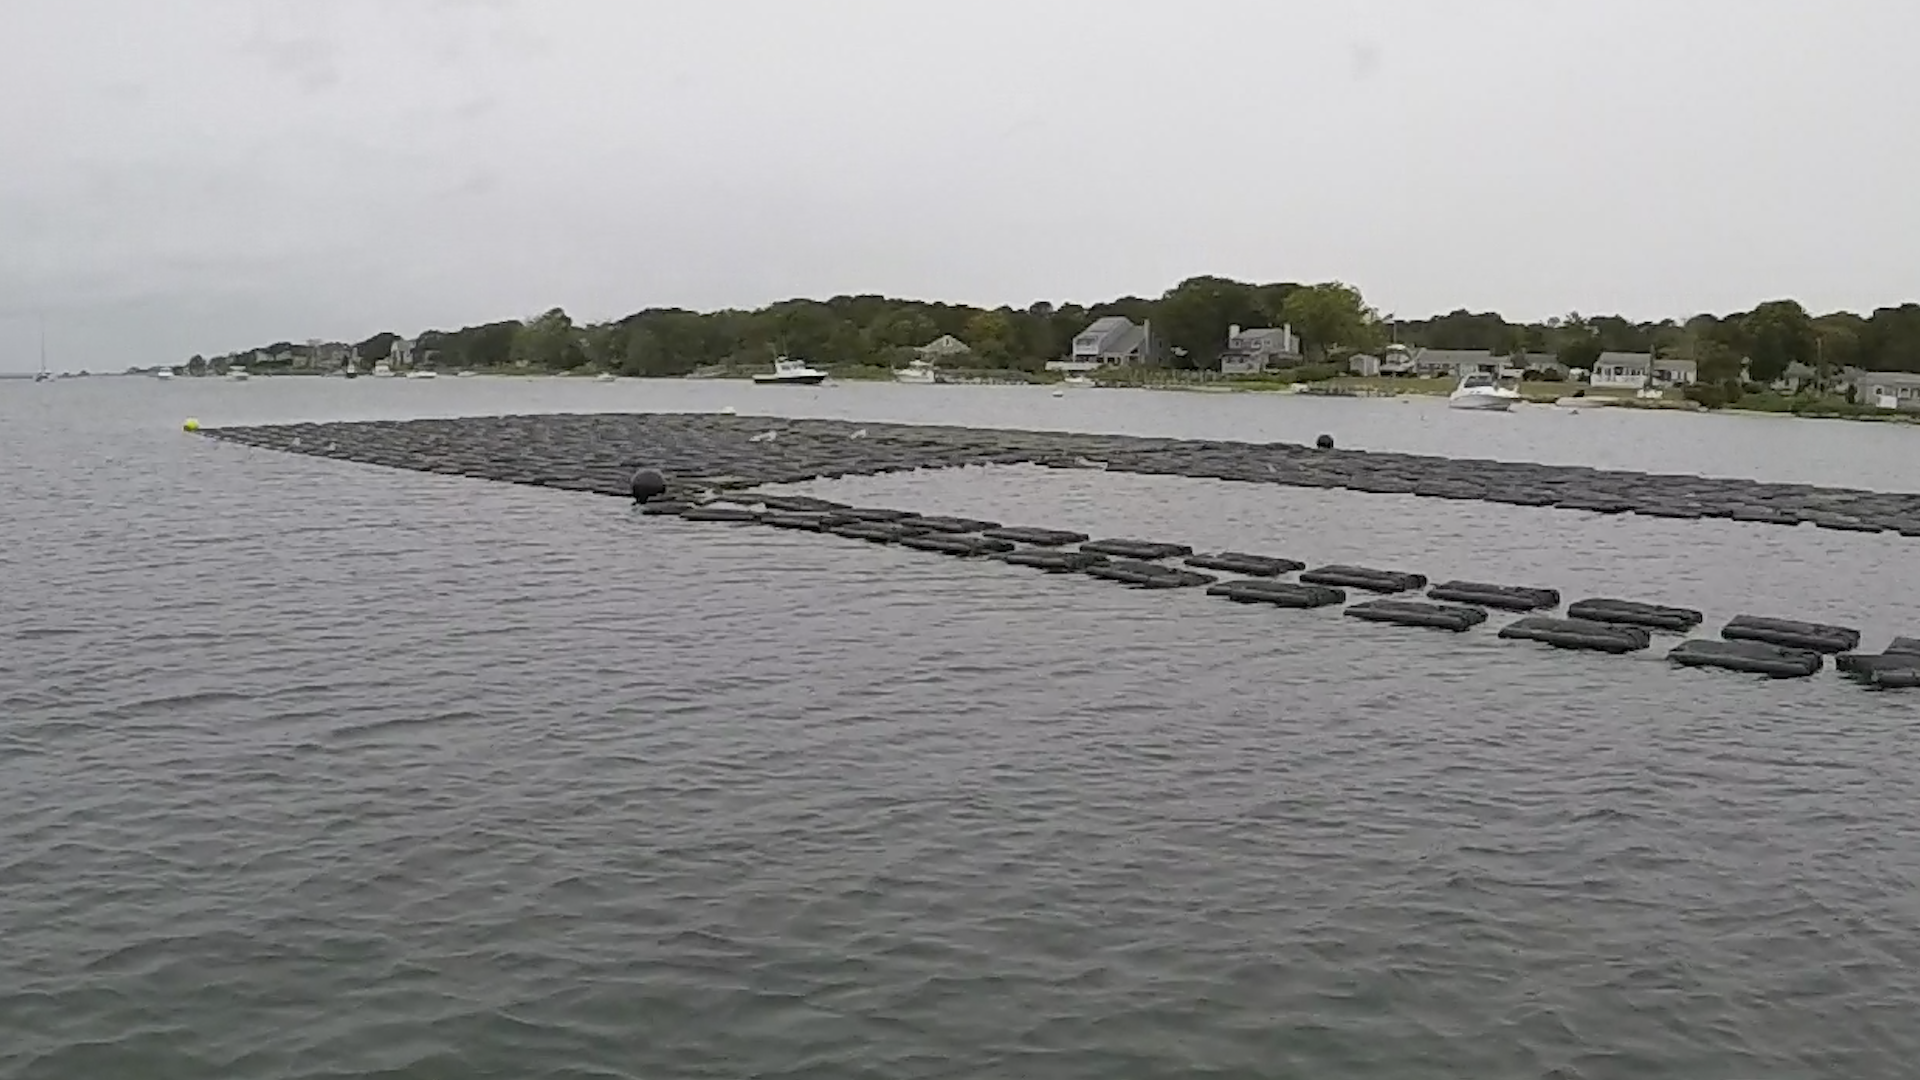bag: (1669, 632, 1825, 682), (1499, 613, 1648, 657), (1346, 595, 1489, 638), (1721, 611, 1859, 653), (1427, 571, 1561, 613), (1208, 575, 1349, 615)
